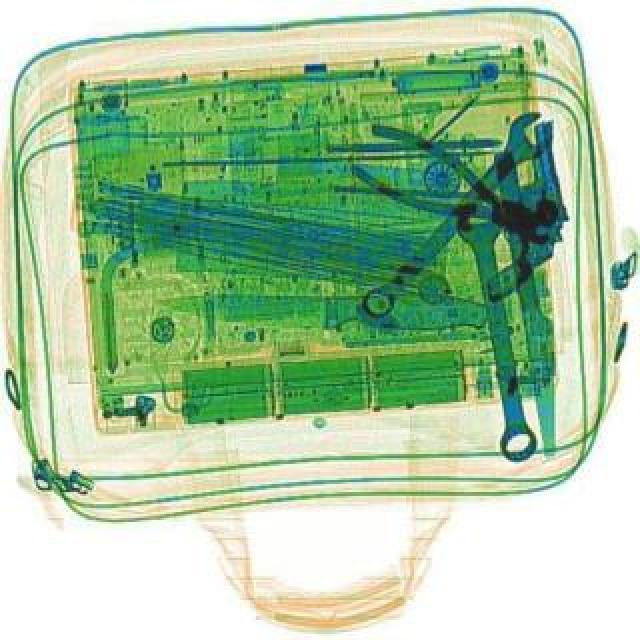gun: (456, 118, 582, 302)
knife: (494, 148, 572, 454), (152, 284, 488, 332)
scissors: (350, 102, 566, 328), (450, 194, 548, 462)
wrench: (342, 114, 554, 256)
